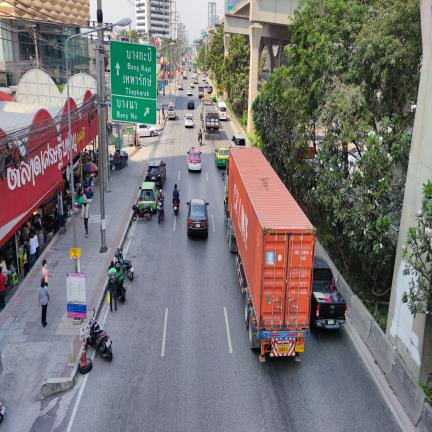car: (187, 199, 208, 236), (145, 159, 166, 188), (138, 182, 158, 212), (139, 124, 158, 137), (230, 134, 246, 148), (184, 114, 193, 128), (187, 98, 195, 109), (207, 85, 213, 94), (187, 87, 193, 96), (178, 83, 183, 90), (204, 81, 208, 88)
human: (38, 277, 49, 327), (107, 261, 117, 313), (81, 201, 90, 238), (42, 259, 52, 287), (29, 232, 37, 267), (22, 242, 30, 277), (158, 189, 165, 220), (23, 221, 30, 241), (173, 184, 180, 204), (134, 131, 137, 148), (198, 129, 202, 141), (162, 105, 165, 120)
motorbike: (87, 308, 113, 362), (114, 248, 134, 281), (115, 263, 127, 302), (116, 264, 127, 302), (132, 204, 152, 221), (157, 199, 163, 224), (173, 197, 180, 216), (173, 199, 180, 215), (198, 137, 202, 145), (179, 189, 180, 194), (116, 261, 117, 262), (131, 279, 131, 280)
pickup: (310, 256, 347, 329), (167, 101, 176, 120), (190, 80, 194, 88)
taxi: (187, 147, 201, 171), (215, 147, 229, 167), (211, 93, 217, 101)
truck: (224, 147, 316, 361), (200, 98, 220, 140), (198, 86, 204, 98), (230, 247, 233, 251)
van: (218, 102, 227, 120)
